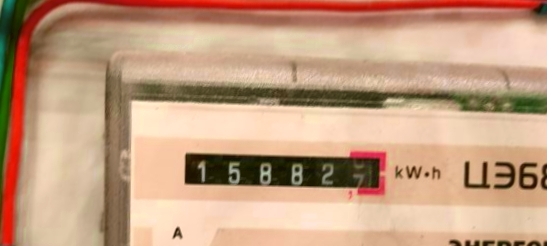1: (196, 157, 209, 183)
2: (320, 160, 337, 186)
5: (227, 159, 242, 185)
7: (351, 170, 366, 188)
8: (258, 160, 275, 185), (290, 161, 306, 186)
screen: (175, 140, 395, 203)
